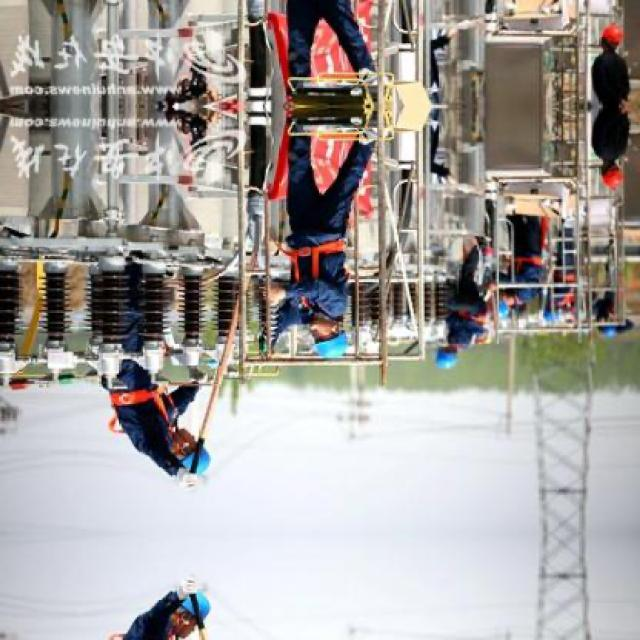con casco: (141, 412, 251, 482), (298, 298, 367, 362), (416, 331, 476, 366)
